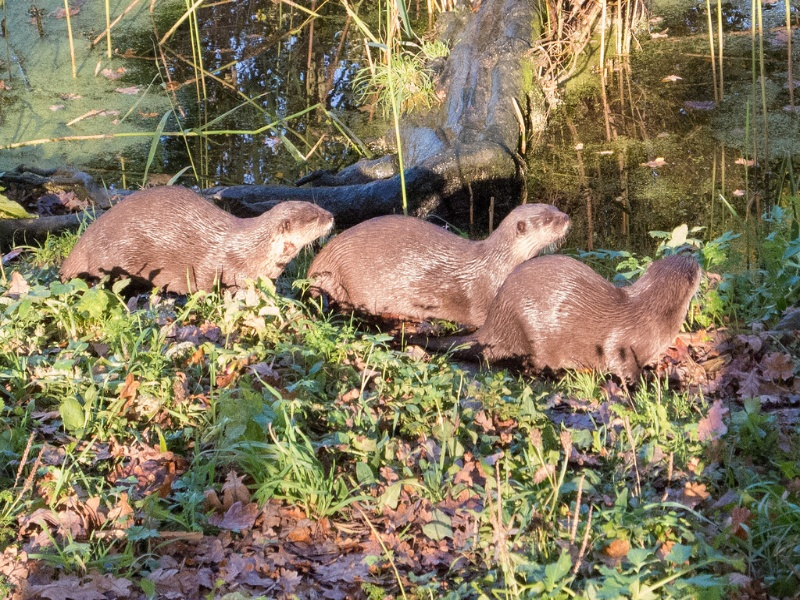minkish: (301, 198, 579, 330), (47, 187, 339, 305), (449, 251, 707, 381)
